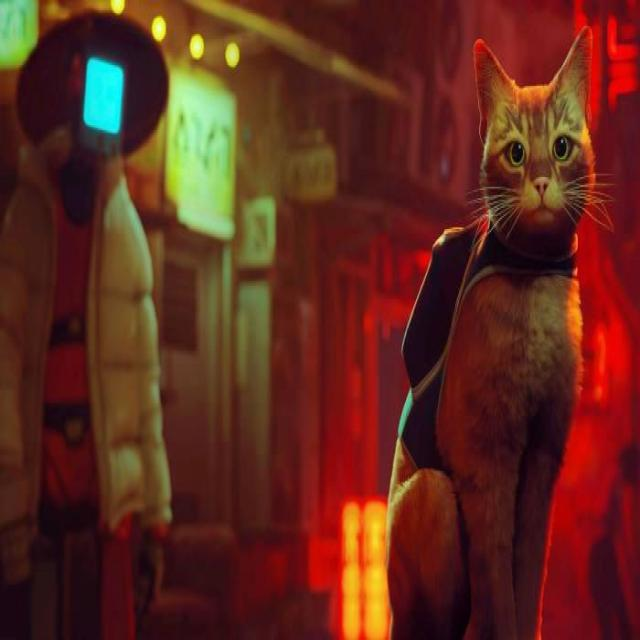Cat: (469, 32, 607, 250)
